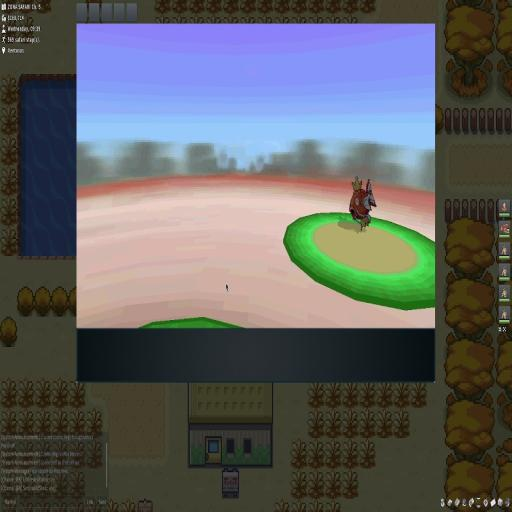MAGIKARP: (346, 175, 376, 233)
